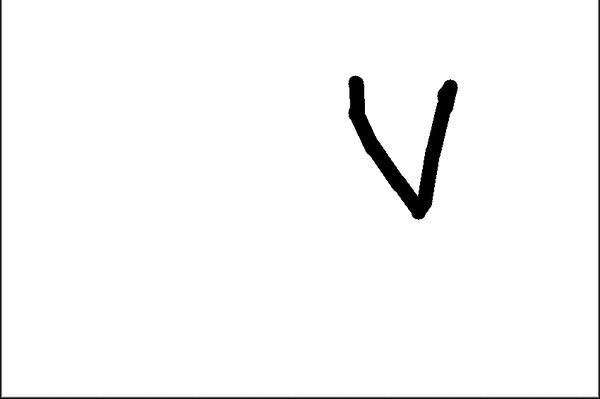V: (338, 60, 463, 226)
